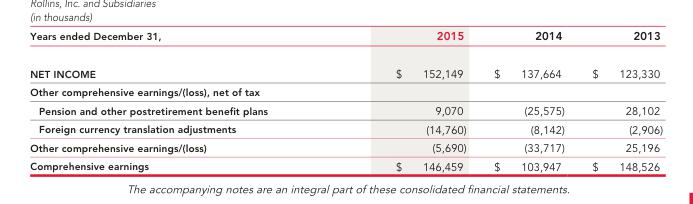table: (29, 28, 662, 172)
table column: (29, 28, 331, 172), (331, 28, 479, 172), (479, 28, 577, 172), (577, 28, 662, 172)
table column header: (29, 28, 662, 54)
table projected row header: (29, 82, 662, 100)
table row: (29, 54, 662, 82), (29, 28, 662, 54), (29, 100, 662, 119), (29, 119, 662, 138), (29, 82, 662, 100), (29, 138, 662, 156), (29, 156, 662, 172)
